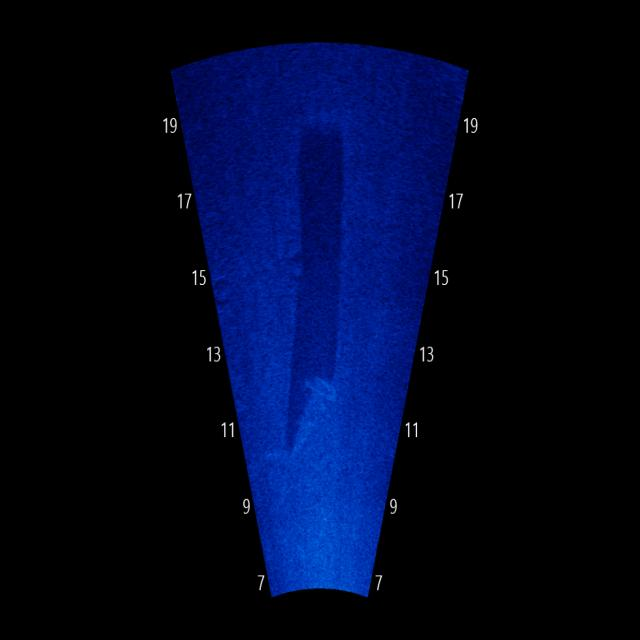triangle: (279, 362, 350, 462)
